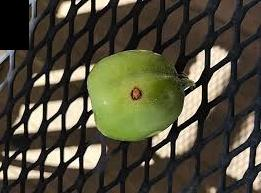rotten apple: (88, 48, 184, 140)
